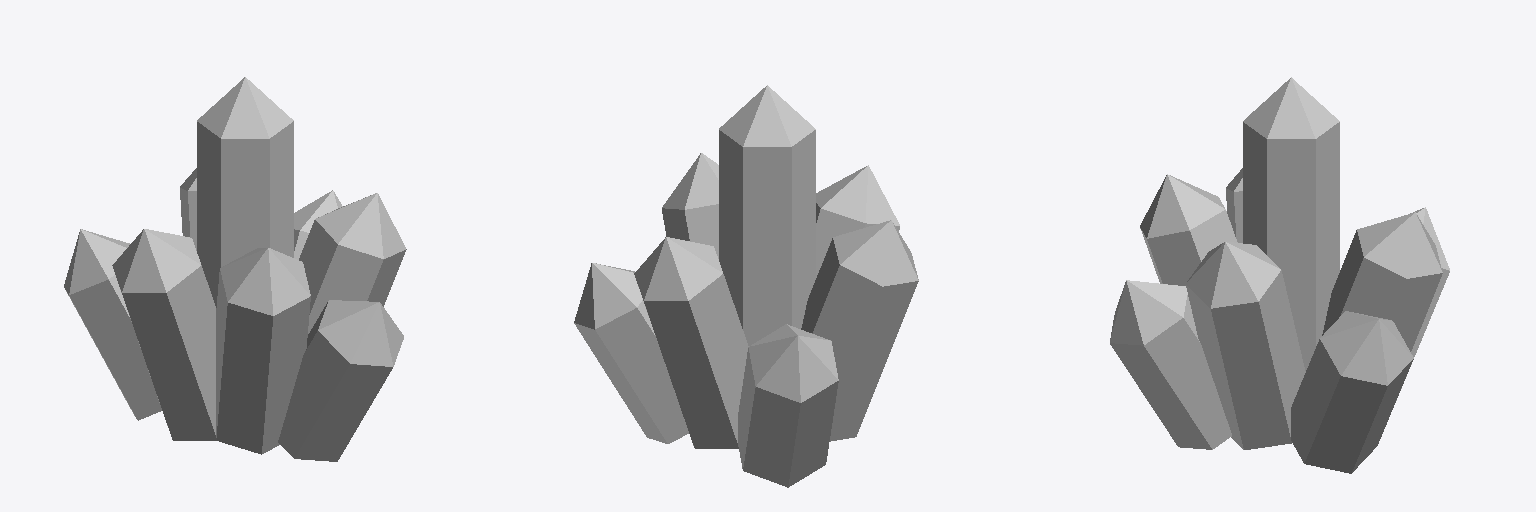
File: crystals_energy.obj
3 renders of one model, left to right at view 1: azimuth 30°, elevation 25°; view 2: azimuth 150°, elevation 25°; view 3: azimuth 270°, elevation 25°, orthographic.
Visible parts, largest first — view 1: Cylinder; view 2: Cylinder; view 3: Cylinder.
Boxes of the visible parts, x1=… form: Cylinder: x1=64, y1=77, x2=406, y2=461; Cylinder: x1=574, y1=85, x2=918, y2=487; Cylinder: x1=1110, y1=77, x2=1449, y2=473.
Size of the model in its own units: 0.8438 by 0.9975 by 0.8737.